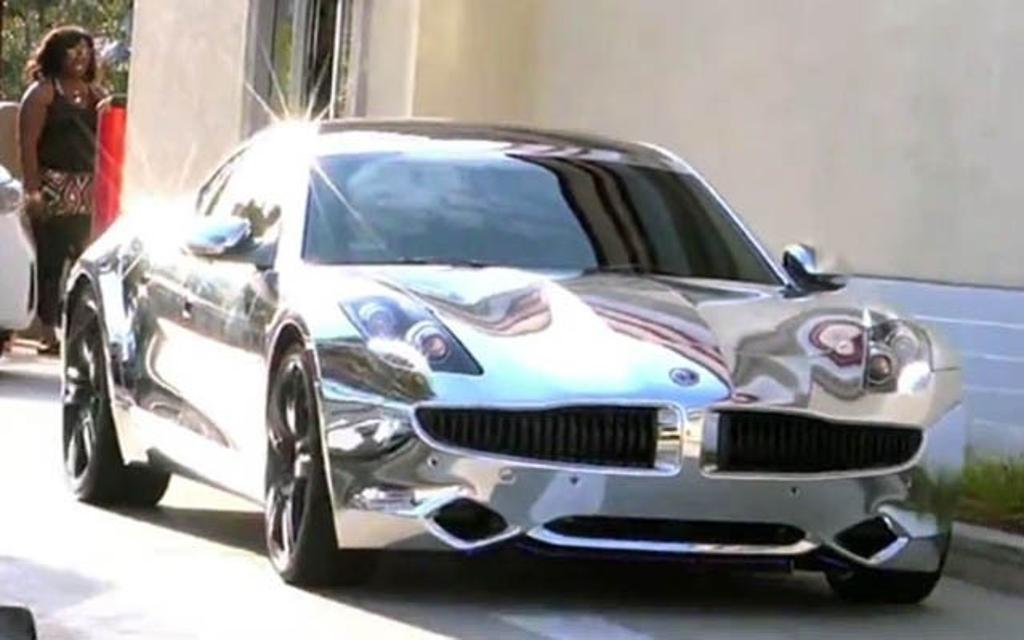face: (51, 35, 107, 83)
